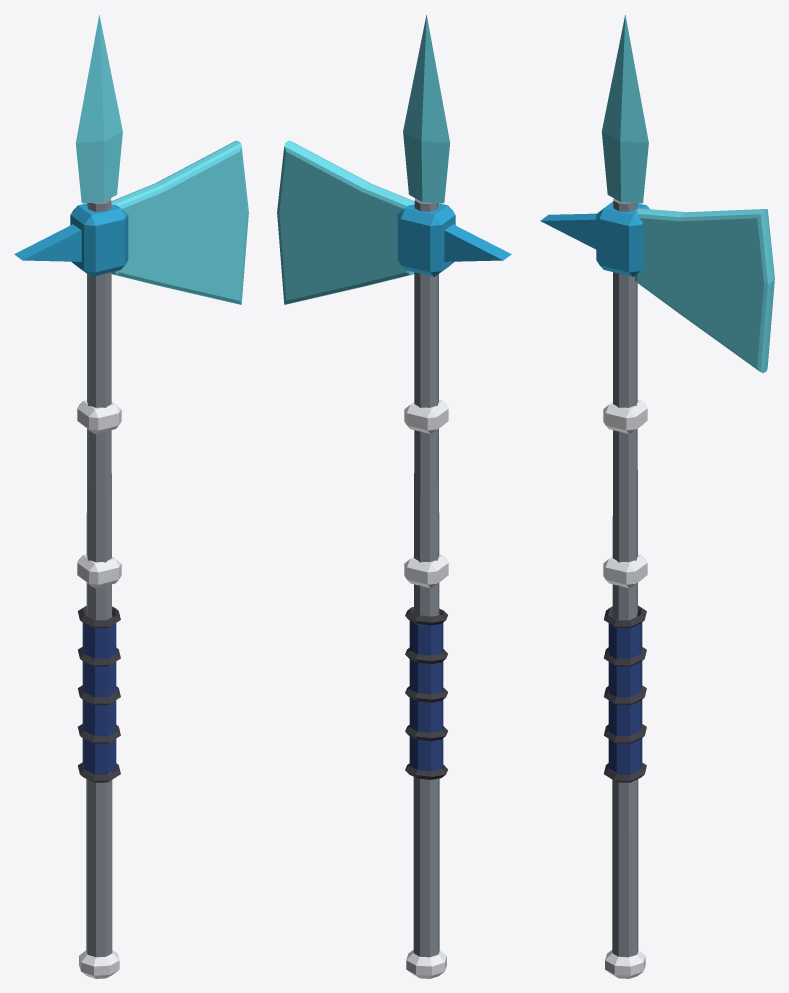
The model's file is DiamondHalberd.fbx.
The picture shows the model from 3 angles, left to right: view 1: azimuth 30°, elevation 25°; view 2: azimuth 150°, elevation 25°; view 3: azimuth 330°, elevation 25°; orthographic projection.
Visible parts, largest first — view 1: DiamondHalberd; view 2: DiamondHalberd; view 3: DiamondHalberd.
Boxes of the visible parts, box(x1,y1,x2,y2) form: DiamondHalberd: box(14, 15, 248, 978); DiamondHalberd: box(277, 15, 511, 978); DiamondHalberd: box(540, 15, 774, 978).
Bounding box in the file's own units: 1.55 × 6.22 × 0.2614.
1 material, 1 textured.
